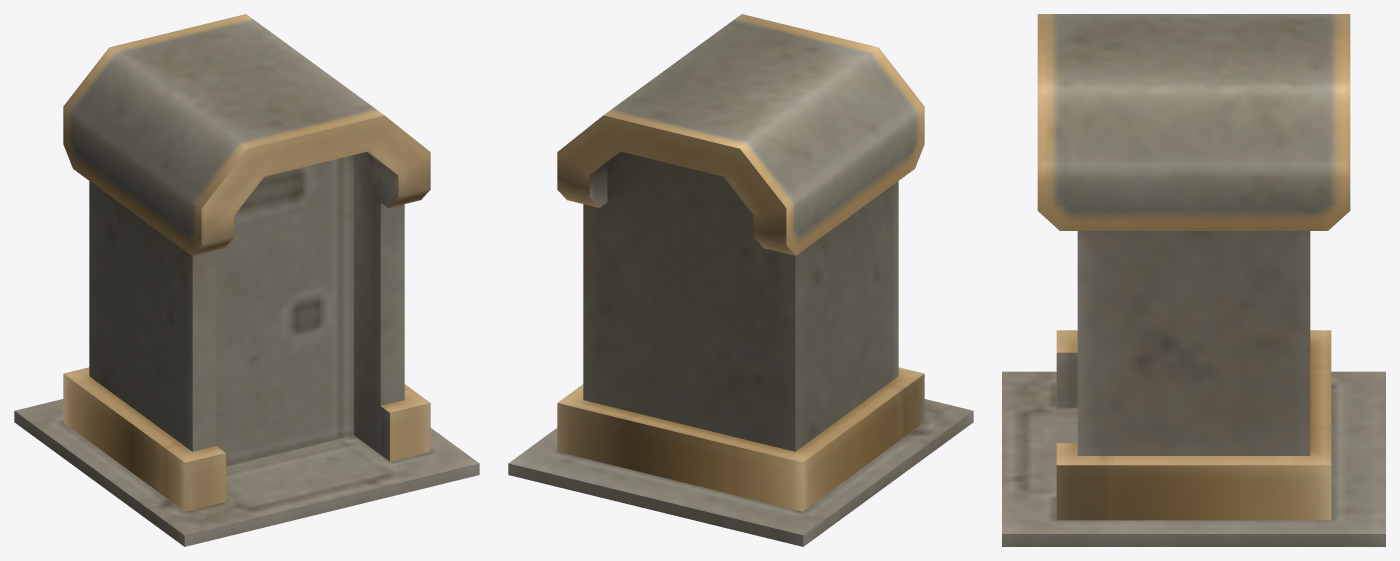
File: Wall_Booth.FBX
The picture shows the model from 3 angles, left to right: view 1: azimuth 30°, elevation 25°; view 2: azimuth 150°, elevation 25°; view 3: azimuth 270°, elevation 25°; orthographic projection. The views are drawn at different scales.
Visible parts, largest first — view 1: Wall_Booth; view 2: Wall_Booth; view 3: Wall_Booth.
Part boxes in pixels (x1,y1,x2,y2): Wall_Booth: [14, 14, 479, 546]; Wall_Booth: [508, 14, 973, 546]; Wall_Booth: [1002, 14, 1385, 546].
Bounding box in the file's own units: 407 × 484 × 407.
